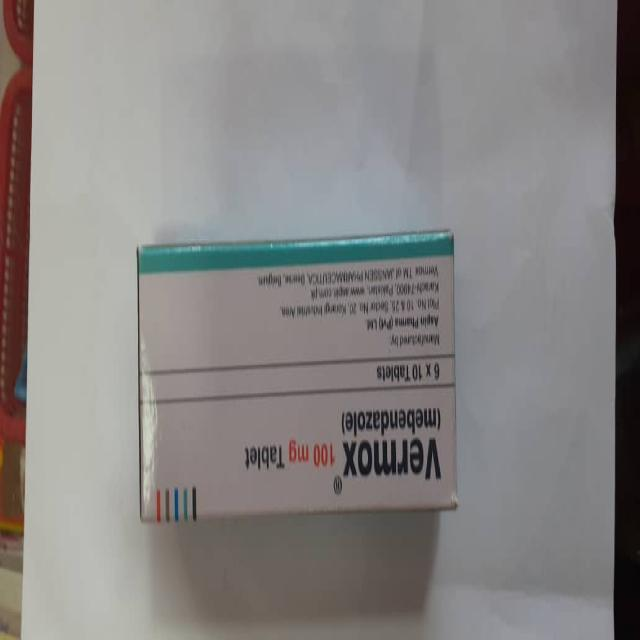drug-name: (338, 436, 444, 486)
